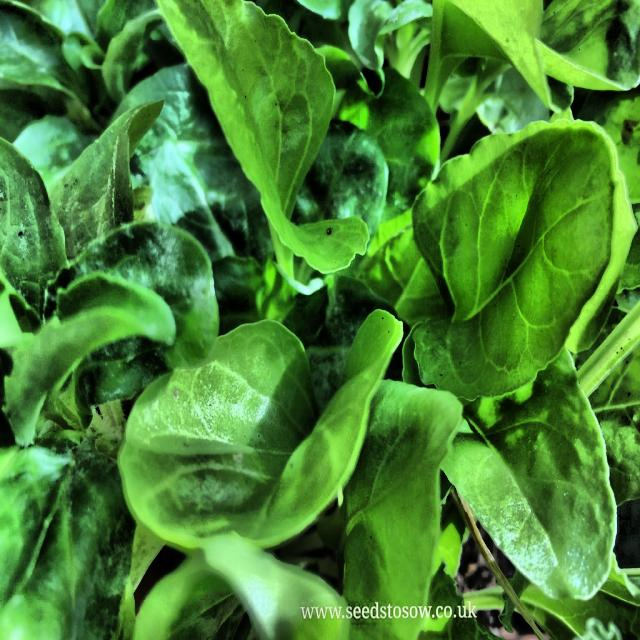spinach: (21, 19, 585, 618)
